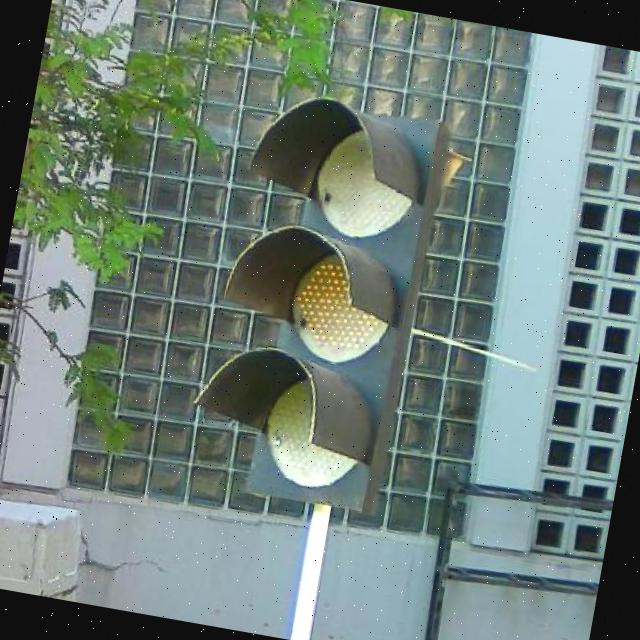yellow_light: (186, 89, 446, 514)
